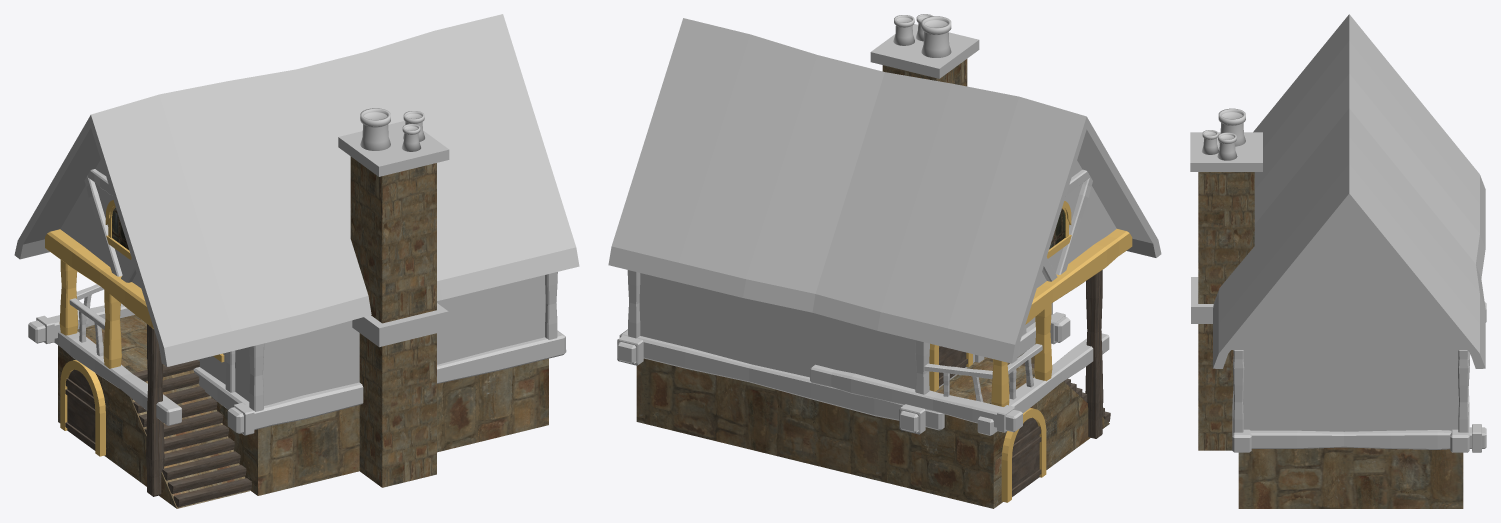
File: house2.fbx
3 views of the same model, side by side, from view 1: azimuth 30°, elevation 25°; view 2: azimuth 150°, elevation 25°; view 3: azimuth 270°, elevation 25° (orthographic). The views are drawn at different scales.
Visible parts, largest first — view 1: Cube.018, Cube.019, Cube.009, Cube.013, Cube.025, Cube.012, Cube.010, Cube.020, Cube.024, Cube.023, Cube.053, Circle.006 (+7 smaller); view 2: Cube.018, Cube.009, Cube.013, Cube.012, Cube.010, Cube.060, Cube.019, Cube.020, Cube.023, Cube.024, Cube.053, Circle.006 (+6 smaller); view 3: Cube.018, Cube.013, Cube.009, Cube.019, Cube.011, Cube.053, Cube.010, Cylinder.003, Cylinder.005, Cylinder.004.
Part boxes in pixels (x1=…): Cube.018: x1=14, y1=14, x2=579, y2=366; Cube.019: x1=338, y1=121, x2=449, y2=487; Cube.009: x1=211, y1=358, x2=548, y2=495; Cube.013: x1=197, y1=275, x2=545, y2=405; Cube.025: x1=131, y1=360, x2=251, y2=507; Cube.012: x1=58, y1=315, x2=250, y2=508; Cube.010: x1=227, y1=330, x2=566, y2=433; Cube.020: x1=45, y1=229, x2=153, y2=328; Cube.024: x1=54, y1=330, x2=181, y2=425; Cube.023: x1=146, y1=324, x2=164, y2=496; Cube.053: x1=249, y1=272, x2=557, y2=411; Circle.006: x1=60, y1=360, x2=105, y2=456; Cube.018: x1=608, y1=18, x2=1161, y2=363; Cube.009: x1=636, y1=353, x2=1034, y2=490; Cube.013: x1=639, y1=273, x2=1035, y2=389; Cube.012: x1=921, y1=357, x2=1109, y2=508; Cube.010: x1=619, y1=314, x2=1070, y2=430; Cube.060: x1=810, y1=364, x2=1022, y2=432; Cube.019: x1=870, y1=24, x2=979, y2=86; Cube.020: x1=1025, y1=229, x2=1132, y2=324; Cube.023: x1=1085, y1=270, x2=1103, y2=438; Cube.024: x1=977, y1=333, x2=1109, y2=435; Cube.053: x1=627, y1=270, x2=1052, y2=394; Circle.006: x1=1001, y1=408, x2=1046, y2=502; Cube.018: x1=1213, y1=14, x2=1485, y2=368; Cube.013: x1=1243, y1=350, x2=1458, y2=431; Cube.009: x1=1238, y1=447, x2=1463, y2=508; Cube.019: x1=1190, y1=132, x2=1262, y2=450; Cube.011: x1=1250, y1=302, x2=1486, y2=449; Cube.053: x1=1233, y1=350, x2=1468, y2=432; Cube.010: x1=1232, y1=352, x2=1470, y2=452; Cylinder.003: x1=1218, y1=108, x2=1245, y2=146; Cylinder.005: x1=1217, y1=132, x2=1237, y2=160; Cylinder.004: x1=1201, y1=130, x2=1218, y2=154.
Size of the model in its own units: 1133 by 960 by 791.
